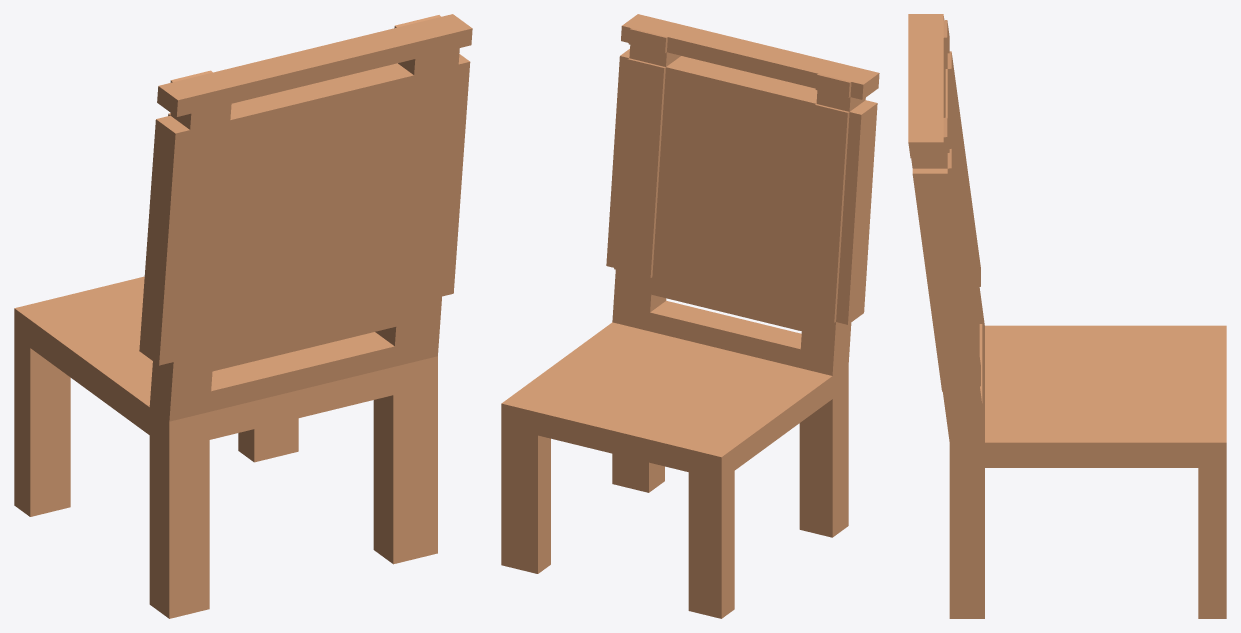
The model's file is kursi1cream.glb.
3 renders of one model, left to right at view 1: azimuth 30°, elevation 25°; view 2: azimuth 150°, elevation 25°; view 3: azimuth 270°, elevation 25°, orthographic. The views are drawn at different scales.
Parts seen in each view (by area): view 1: Cube; view 2: Cube; view 3: Cube.
Boxes of the visible parts, bbox=[...] form: Cube: bbox=[14, 14, 472, 618]; Cube: bbox=[501, 14, 879, 618]; Cube: bbox=[908, 14, 1226, 618].
Size of the model in its own units: 0.4518 by 0.7907 by 0.4732.
